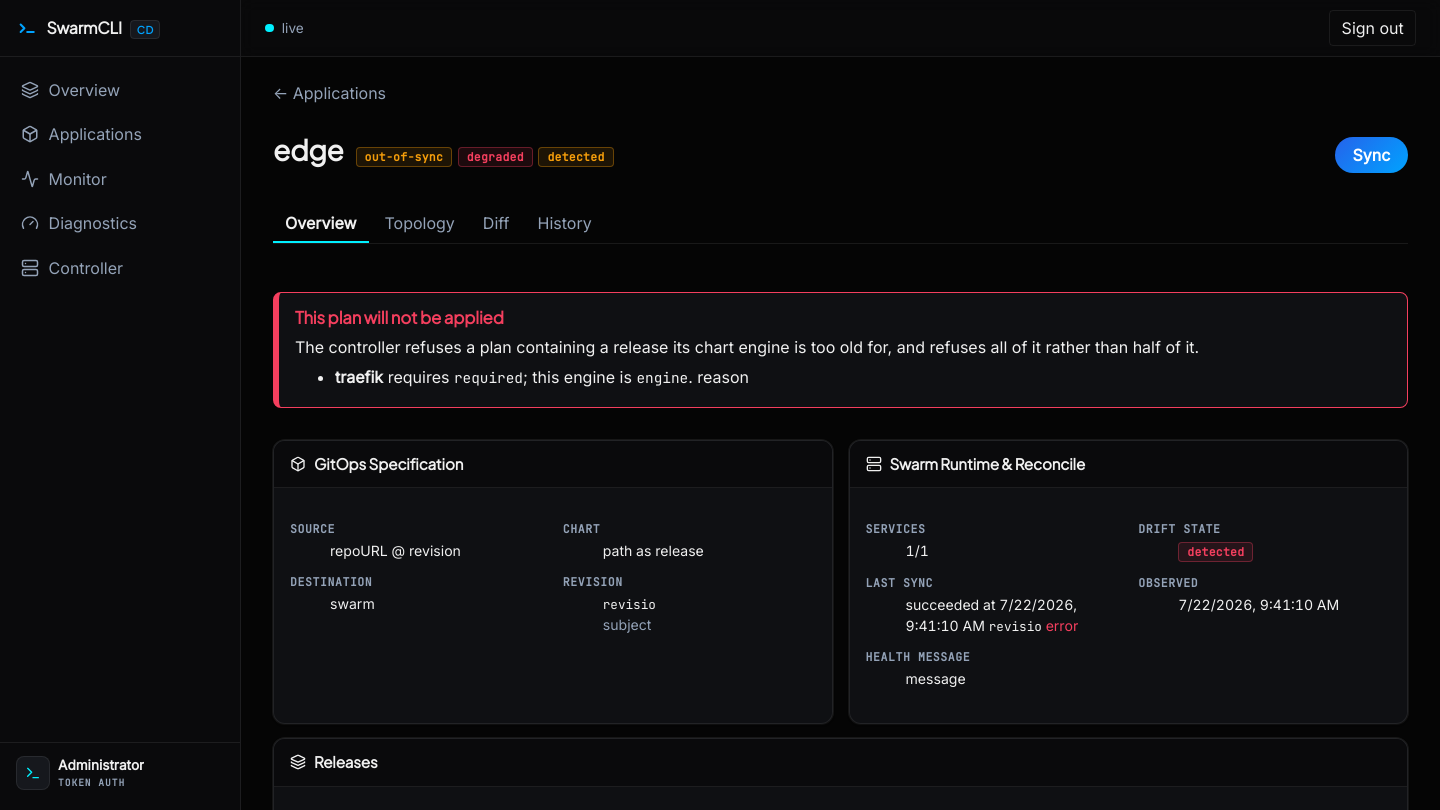
Test: the sync button › reads a coalesced sync as covered rather than as a failure
Click the button "Sync". click: click(1372, 155)
box: x1=1335 y1=137 x2=1408 y2=173
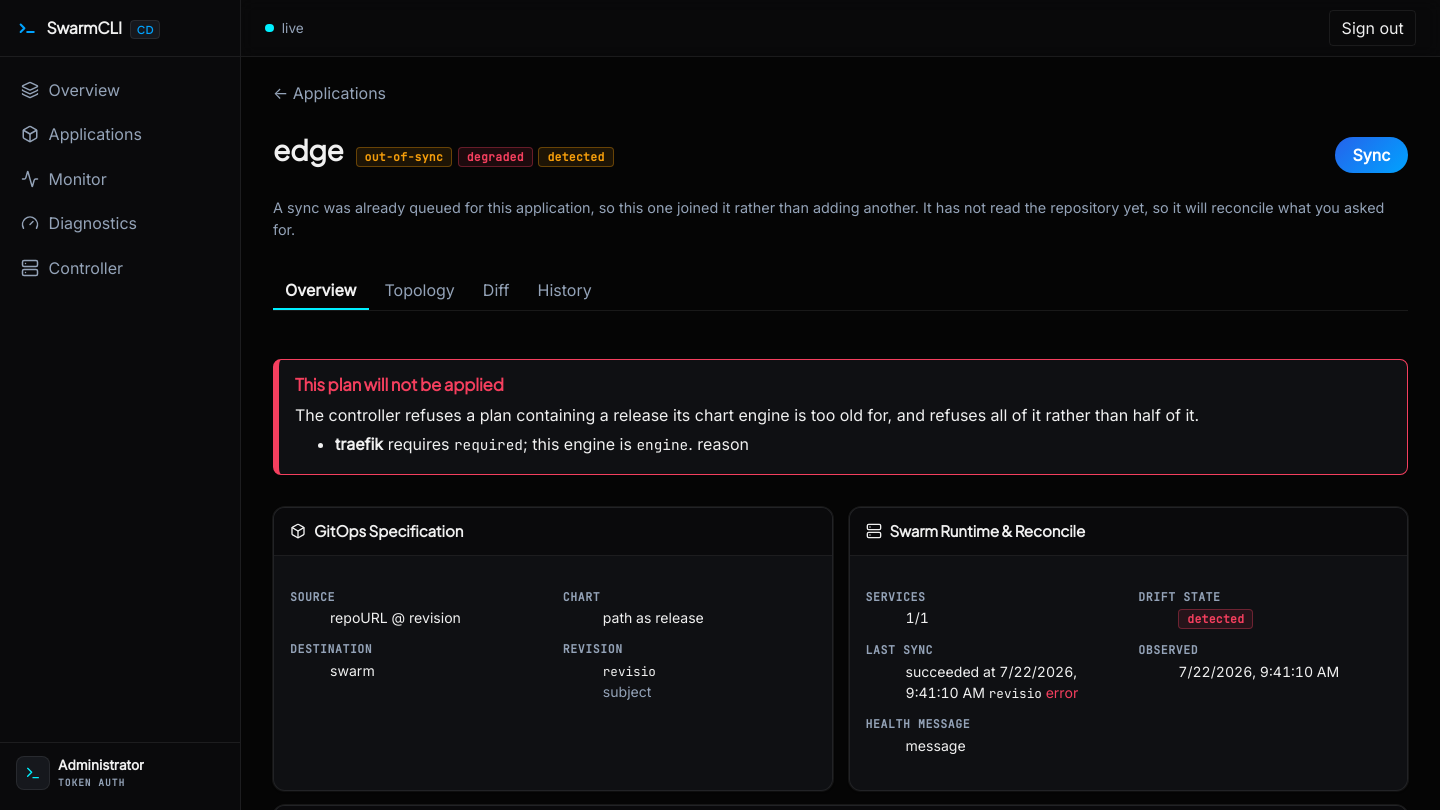
Check: the message with test id "sync-outcome" shows "already queued", box x1=273 y1=199 x2=1384 y2=238
Check: the message with test id "sync-outcome" shows "will reconcile what you asked for", box x1=273 y1=199 x2=1384 y2=238
